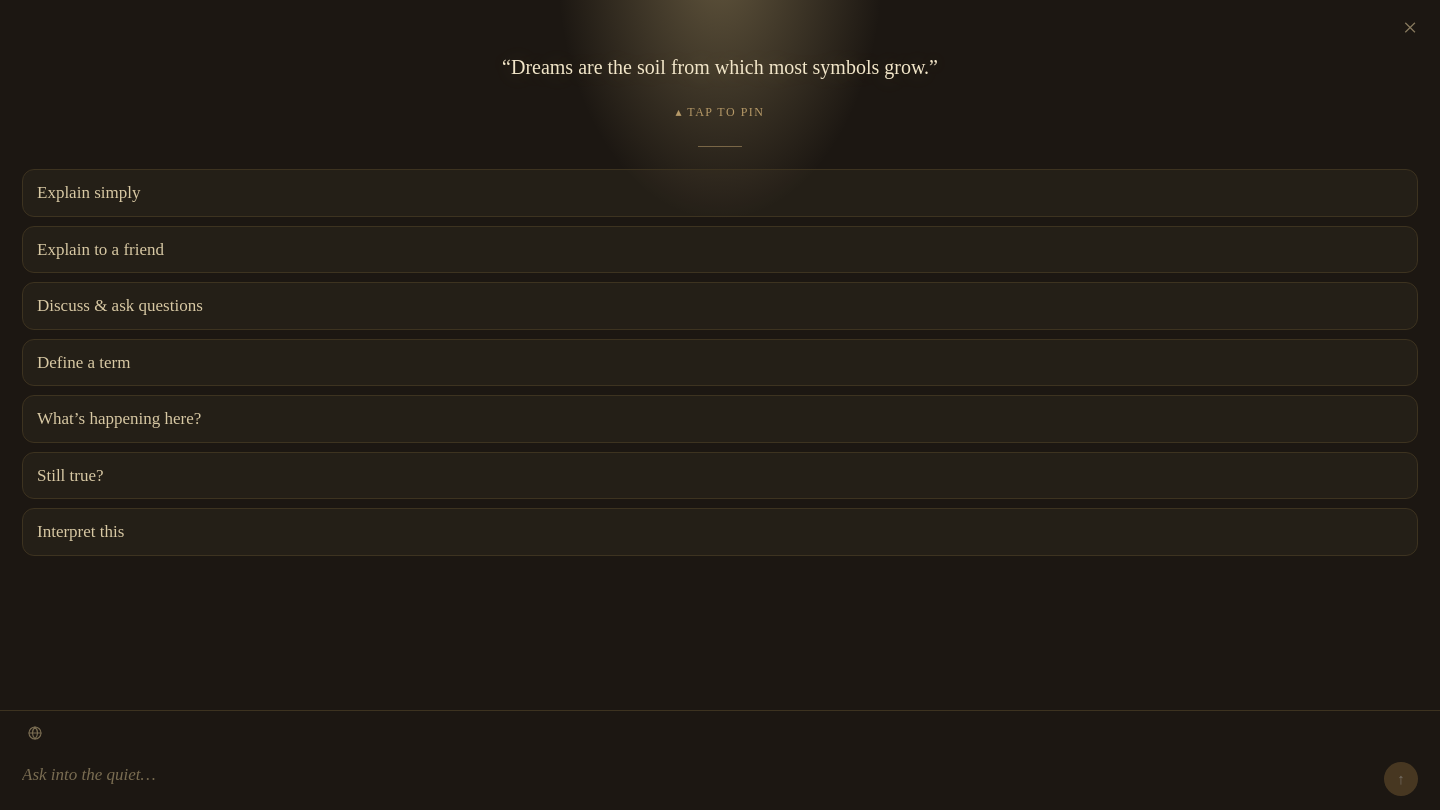
Scenario: the question box › sends on Enter
Type "What does this mean?" into the text box named "Ask about this passage" at [698, 776], box [22, 756, 1375, 796]
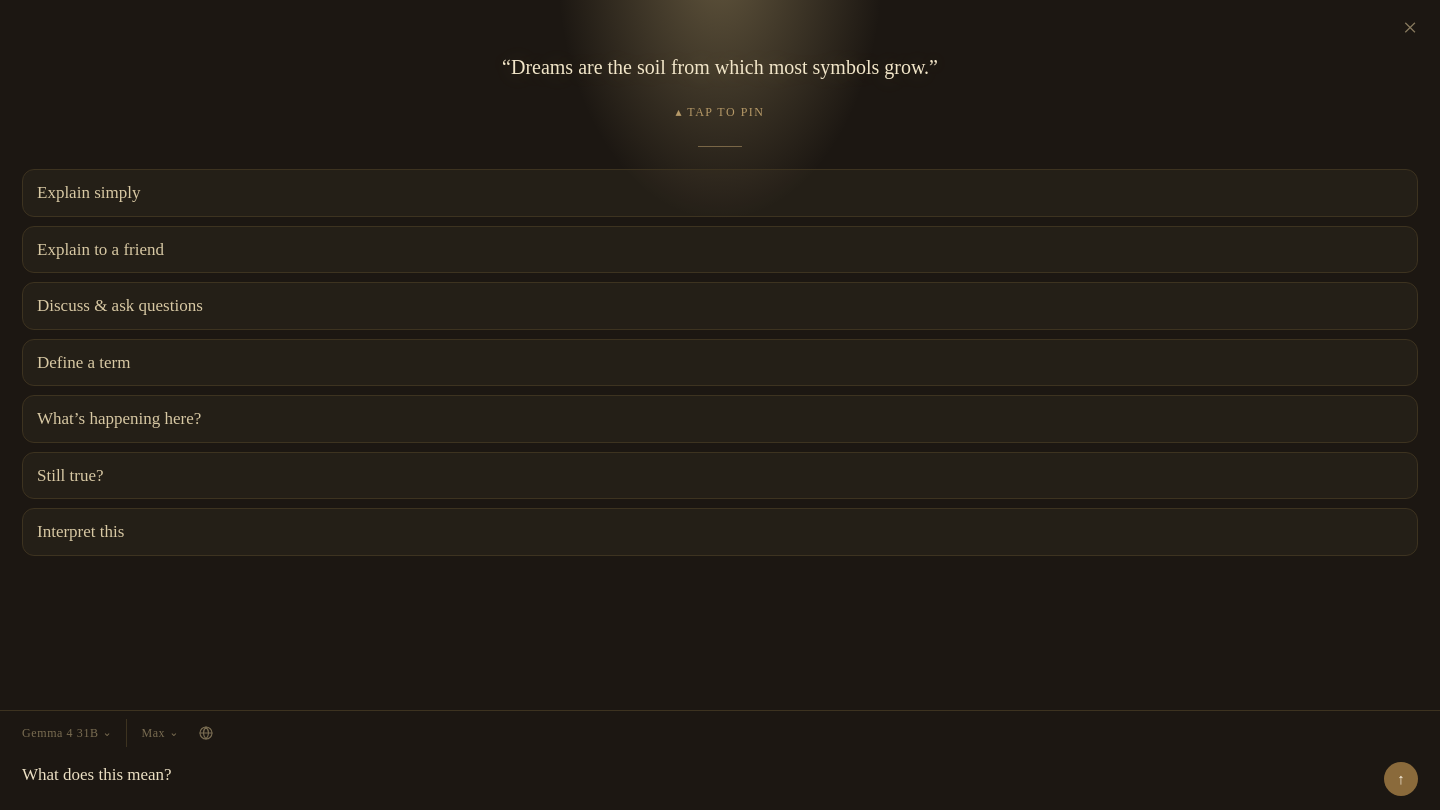
Press Enter in the text box named "Ask about this passage", box [22, 756, 1375, 796]
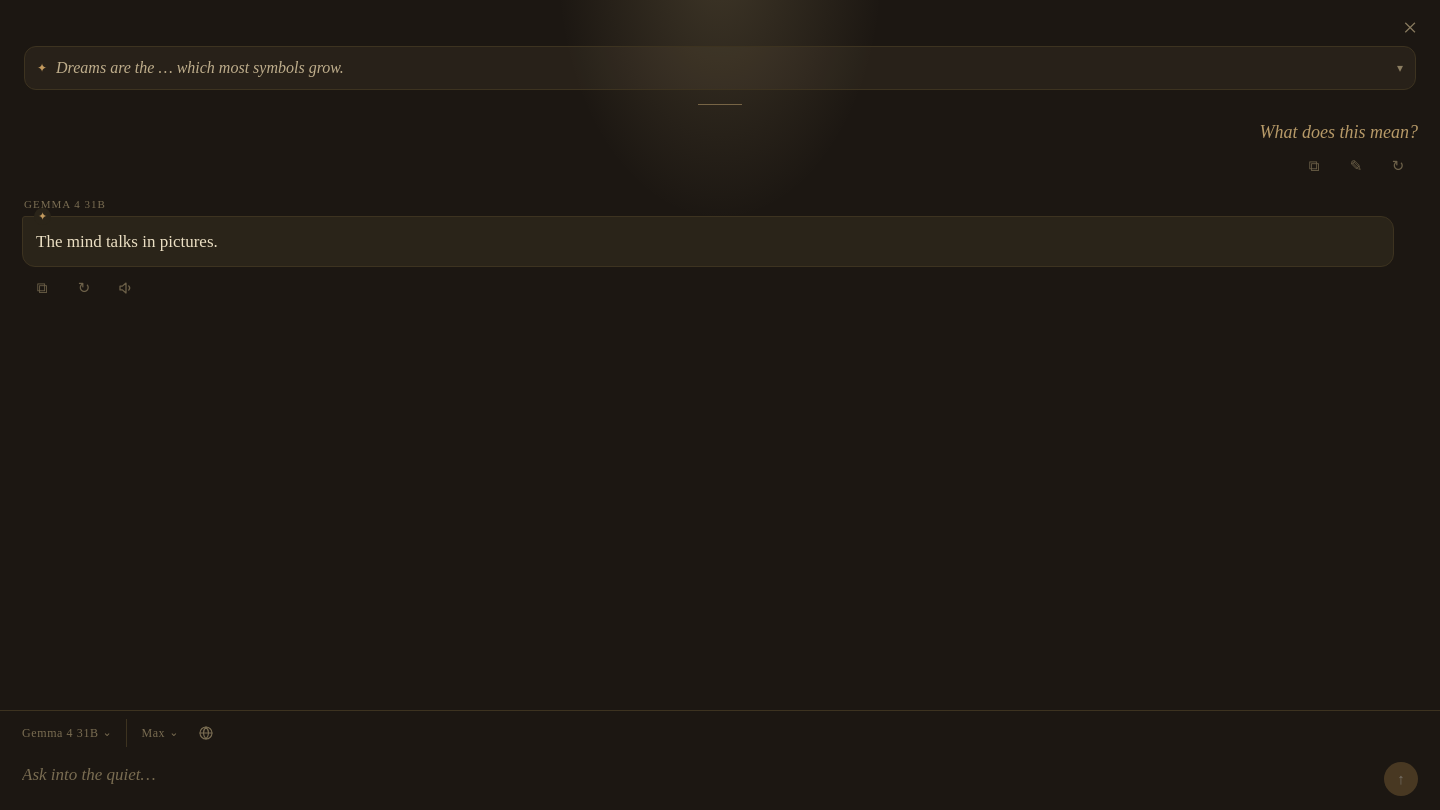
Expected: the text "What does this mean?" is shown, [1260, 122, 1418, 142]
